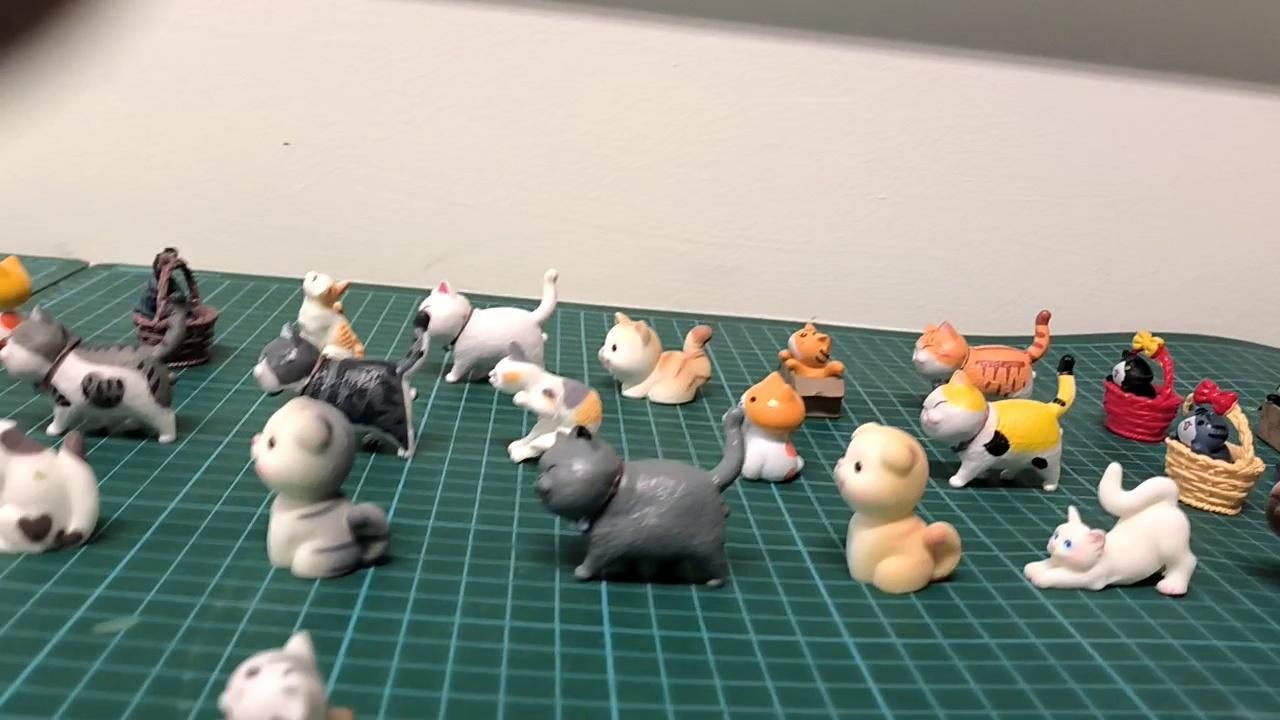pet: (532, 403, 750, 591), (248, 395, 395, 578), (830, 419, 971, 599), (1021, 460, 1202, 600)
